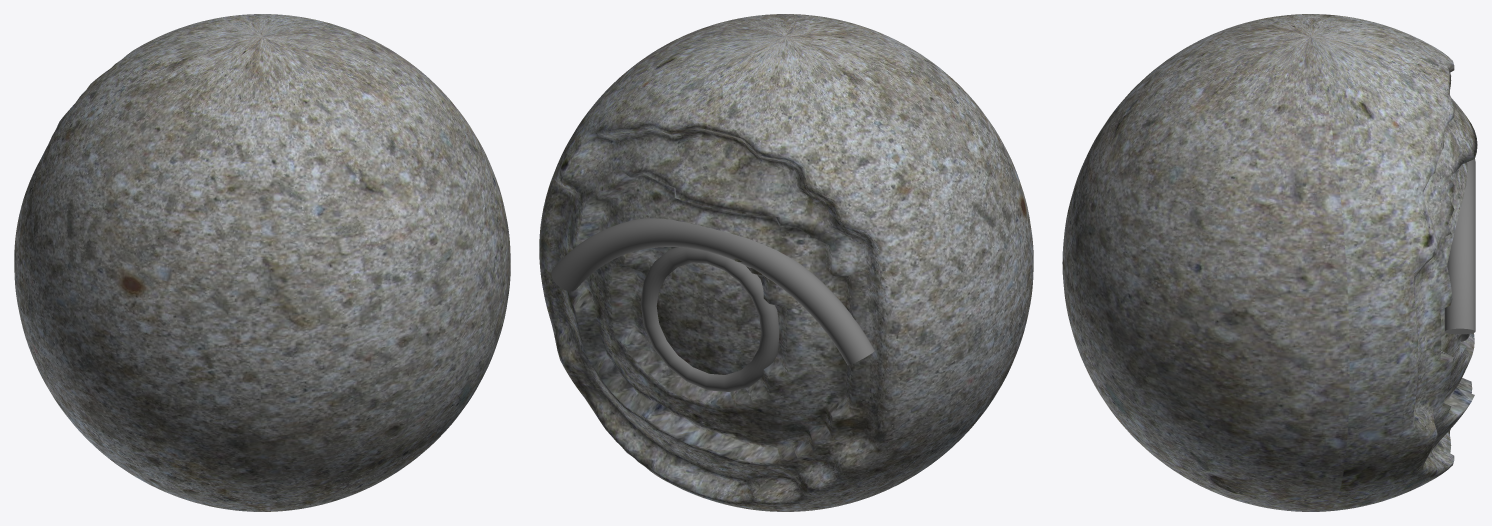
File: Kugla3.fbx
The picture shows the model from 3 angles, left to right: view 1: azimuth 30°, elevation 25°; view 2: azimuth 150°, elevation 25°; view 3: azimuth 270°, elevation 25°; orthographic projection.
Visible parts, largest first — view 1: polySurface5; view 2: polySurface5; view 3: polySurface5.
Boxes of the visible parts, box(x1,y1,x2,y2) form: polySurface5: box(14, 14, 510, 511); polySurface5: box(539, 14, 1033, 511); polySurface5: box(1062, 14, 1477, 511).
Bounding box in the file's own units: 16.64 × 16.7 × 13.9.
3 materials, 1 textured.
